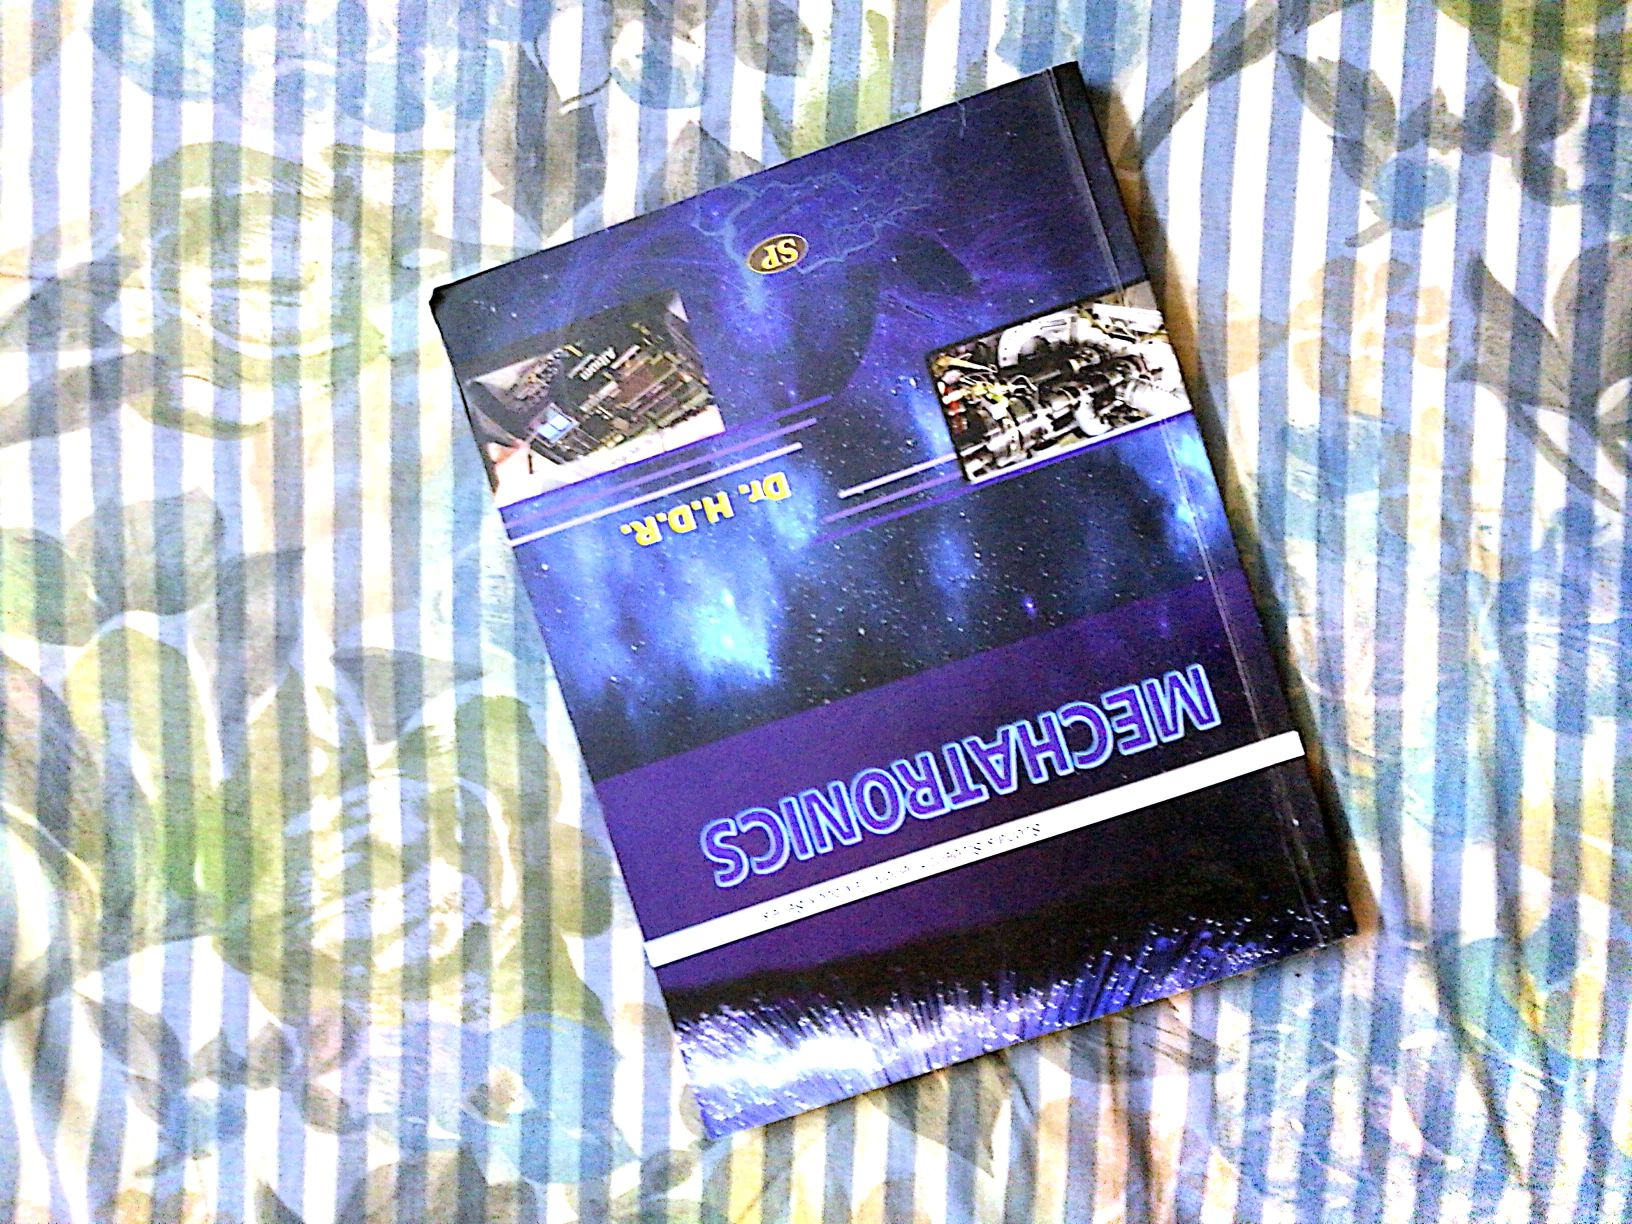mechatronics: (439, 94, 1396, 1134)
